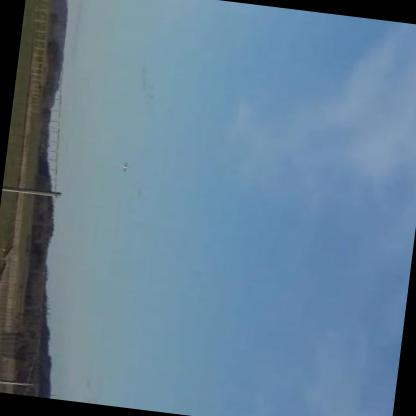plane: (116, 158, 131, 173)
